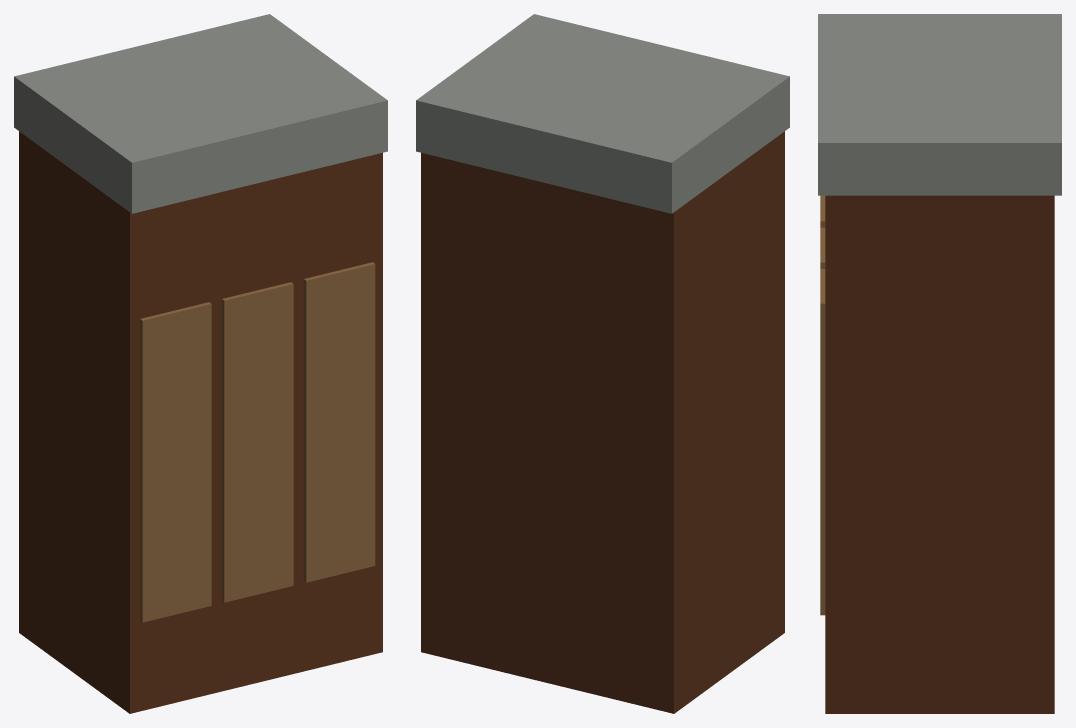
The model's file is host_lectern.glb.
3 views of the same model, side by side, from view 1: azimuth 30°, elevation 25°; view 2: azimuth 150°, elevation 25°; view 3: azimuth 270°, elevation 25° (orthographic). The views are drawn at different scales.
Parts seen in each view (by area): view 1: body; view 2: body; view 3: body.
Boxes of the visible parts, bbox=[...] form: body: bbox=[14, 14, 387, 713]; body: bbox=[416, 14, 789, 713]; body: bbox=[818, 14, 1061, 713].
Bounding box in the file's own units: 0.498 × 1.03 × 0.398.
Materials: 1 (1 with a texture image).
